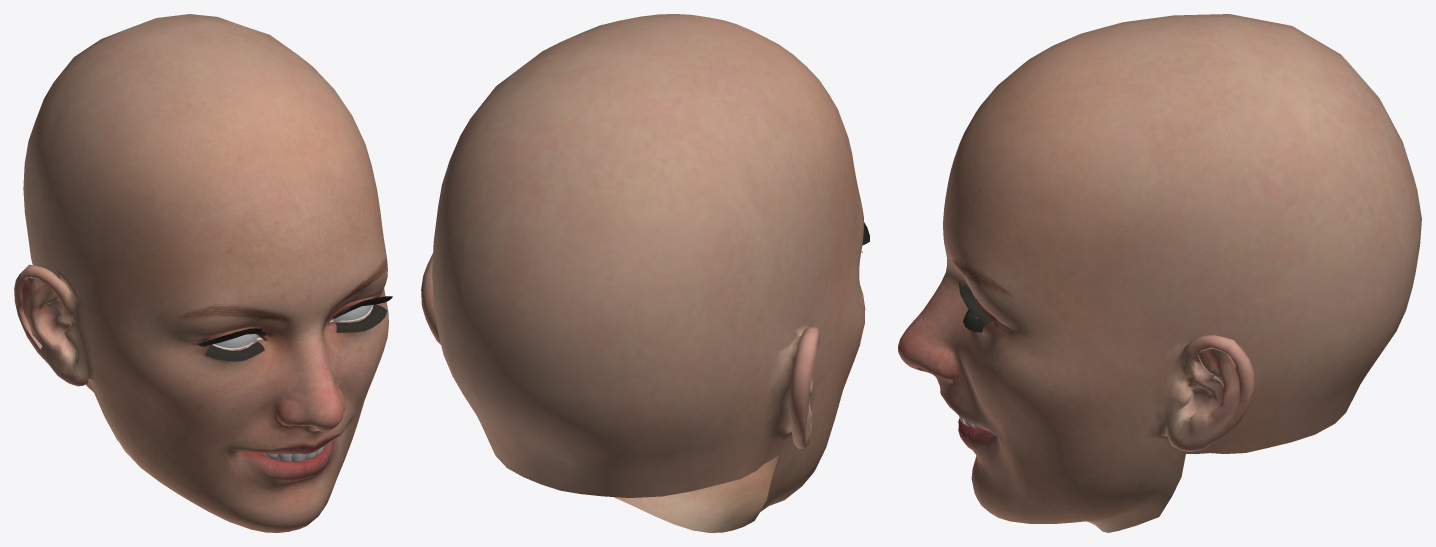
Rendered from Fem.obj.
3 renders of one model, left to right at view 1: azimuth 30°, elevation 25°; view 2: azimuth 150°, elevation 25°; view 3: azimuth 270°, elevation 25°, orthographic. The views are drawn at different scales.
Visible parts, largest first — view 1: head; view 2: head; view 3: head.
Boxes of the visible parts, x1,y1,x2,y2 form: head: (14,14,392,532); head: (421,14,869,532); head: (898,14,1421,532).
Bounding box in the file's own units: 18.04 × 23.23 × 22.3.
